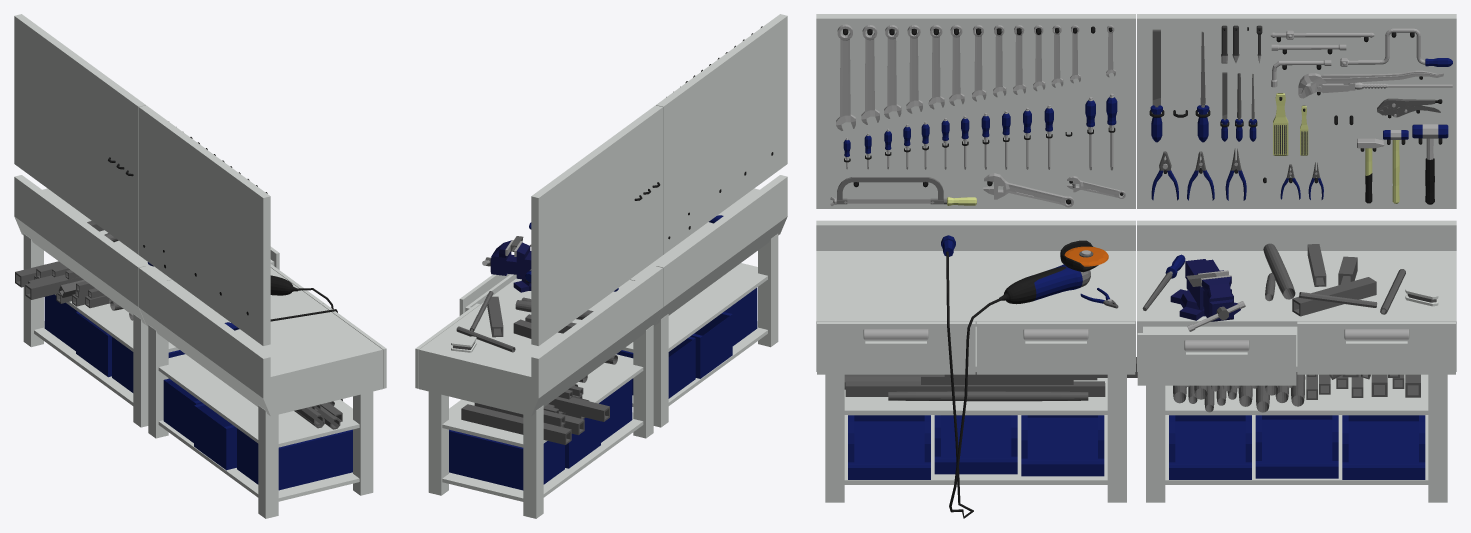
Rendered from work_tool_table.glb.
The picture shows the model from 3 angles, left to right: view 1: azimuth 30°, elevation 25°; view 2: azimuth 150°, elevation 25°; view 3: azimuth 270°, elevation 25°; orthographic projection. The views are drawn at different scales.
Parts seen in each view (by area): view 1: Cube.261, Cube.260, Cube.093, Cube.100, Cube.095, Cube.098, Cube.211, Cube.101, Cube.212, Cube.094, Cube.209, Cube.104 (+6 smaller); view 2: Cube.260, Cube.261, Cube.100, Cube.093, Cube.101, Cube.210, Cube.095, Cube.098, Cube.104, Cube.102, Cube.212, Cube.306 (+11 smaller); view 3: Cube.260, Cube.261, Cube.093, Cube.100, Cube.096, Cube.207, Cube.103, Cube.104, Cube.210, Cube.208, Cube.211, Cube.209 (+30 smaller).
Boxes of the visible parts, x1=… form: Cube.261: x1=139, y1=105, x2=270, y2=345; Cube.260: x1=14, y1=14, x2=145, y2=254; Cube.093: x1=139, y1=266, x2=382, y2=416; Cube.100: x1=14, y1=175, x2=171, y2=324; Cube.095: x1=148, y1=325, x2=373, y2=518; Cube.098: x1=158, y1=354, x2=359, y2=447; Cube.211: x1=237, y1=428, x2=352, y2=490; Cube.101: x1=23, y1=234, x2=148, y2=427; Cube.212: x1=194, y1=403, x2=236, y2=470; Cube.094: x1=158, y1=420, x2=359, y2=501; Cube.209: x1=76, y1=312, x2=111, y2=377; Cube.104: x1=55, y1=294, x2=179, y2=352; Cube.260: x1=531, y1=105, x2=662, y2=345; Cube.261: x1=656, y1=14, x2=787, y2=254; Cube.100: x1=419, y1=266, x2=662, y2=416; Cube.093: x1=630, y1=175, x2=787, y2=324; Cube.101: x1=428, y1=325, x2=653, y2=518; Cube.210: x1=449, y1=429, x2=564, y2=490; Cube.095: x1=653, y1=234, x2=778, y2=427; Cube.098: x1=622, y1=263, x2=767, y2=352; Cube.104: x1=442, y1=354, x2=643, y2=447; Cube.102: x1=442, y1=412, x2=643, y2=501; Cube.212: x1=690, y1=312, x2=732, y2=378; Cube.306: x1=461, y1=404, x2=571, y2=444; Cube.260: x1=1137, y1=14, x2=1456, y2=208; Cube.261: x1=816, y1=14, x2=1135, y2=208; Cube.093: x1=816, y1=220, x2=1135, y2=371; Cube.100: x1=1137, y1=220, x2=1456, y2=371; Cube.096: x1=817, y1=321, x2=1135, y2=374; Cube.207: x1=1137, y1=326, x2=1296, y2=385; Cube.103: x1=1297, y1=321, x2=1455, y2=374; Cube.104: x1=1165, y1=374, x2=1428, y2=415; Cube.210: x1=1342, y1=415, x2=1425, y2=479; Cube.208: x1=1169, y1=415, x2=1251, y2=479; Cube.211: x1=848, y1=415, x2=930, y2=479; Cube.209: x1=1255, y1=415, x2=1338, y2=478.
Bounding box in the file's own units: 1.12 × 1.99 × 2.75.
